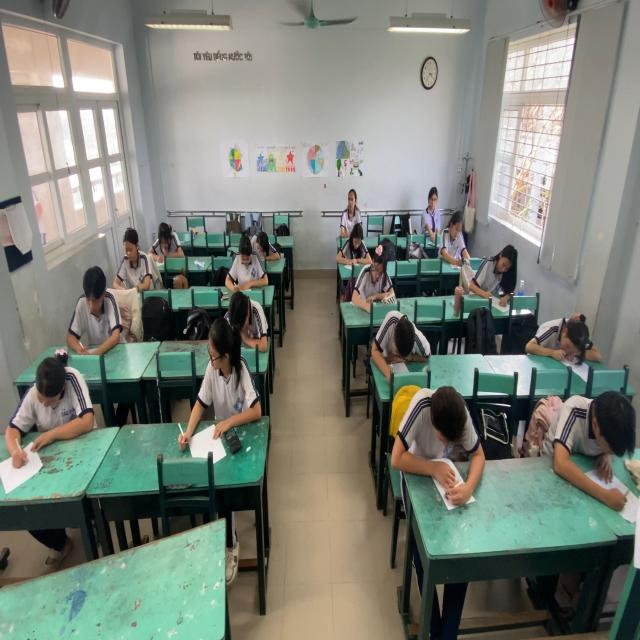cheating: (197, 309, 251, 437)
not_cheating: (10, 344, 99, 447), (545, 388, 626, 481), (407, 384, 469, 464), (66, 268, 122, 356), (372, 309, 430, 368), (220, 280, 271, 342), (529, 319, 593, 367), (479, 243, 529, 298), (142, 222, 189, 274), (113, 222, 148, 284), (434, 211, 470, 264), (228, 232, 263, 285), (362, 250, 396, 301), (250, 225, 286, 271), (422, 181, 442, 240), (344, 218, 370, 260), (338, 191, 366, 229)
